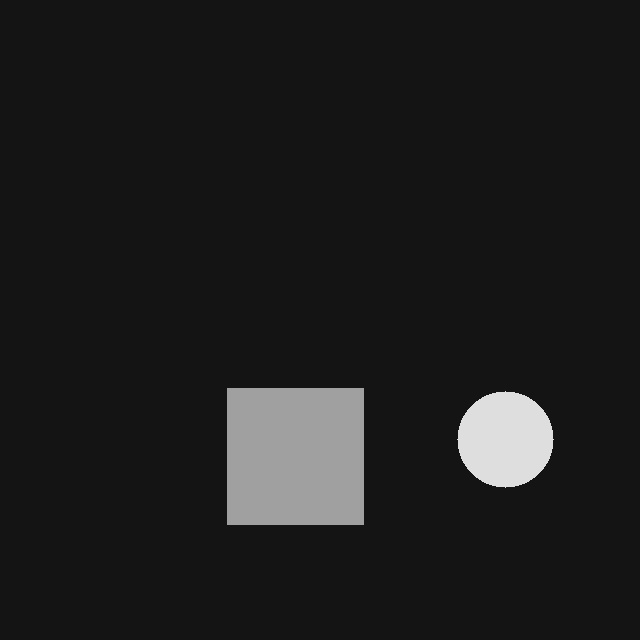circle: (457, 391, 553, 487)
square: (227, 388, 363, 524)
